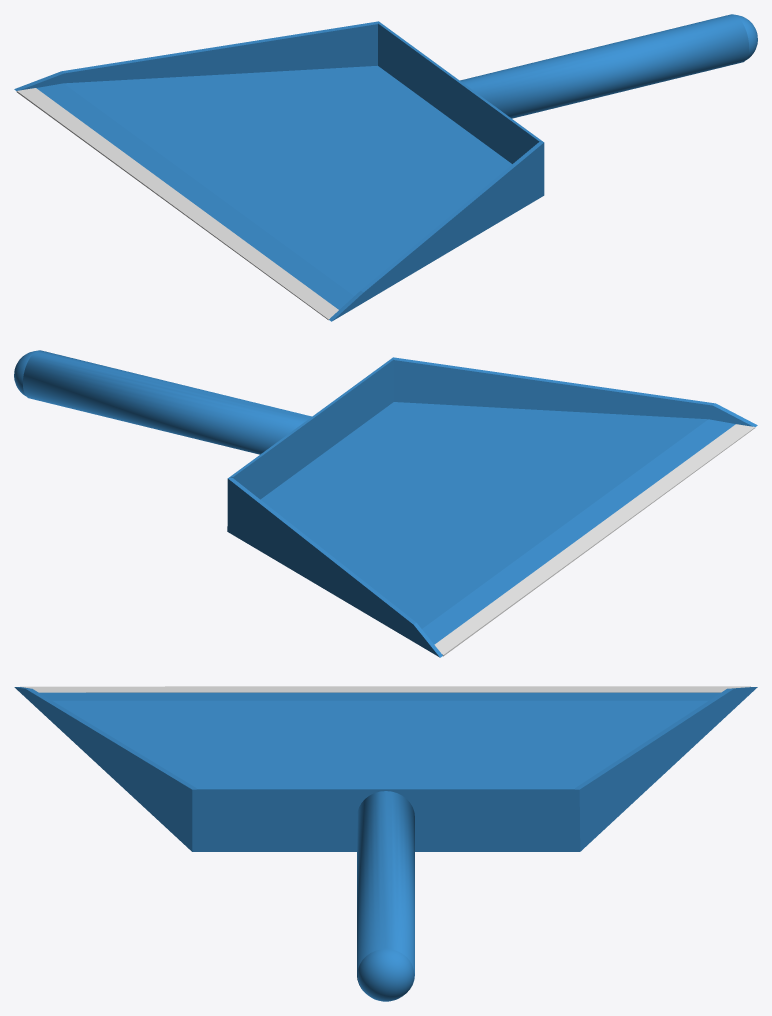
File: dustpan.fbx
3 views of the same model, one above another, from view 1: azimuth 30°, elevation 25°; view 2: azimuth 150°, elevation 25°; view 3: azimuth 270°, elevation 25° (orthographic). The views are drawn at different scales.
Visible parts, largest first — view 1: Cube; view 2: Cube; view 3: Cube.
Boxes of the visible parts, bbox=[...] form: Cube: bbox=[14, 14, 757, 321]; Cube: bbox=[14, 350, 757, 657]; Cube: bbox=[14, 686, 757, 1001].
Size of the model in its own units: 229 by 20.37 by 216.
